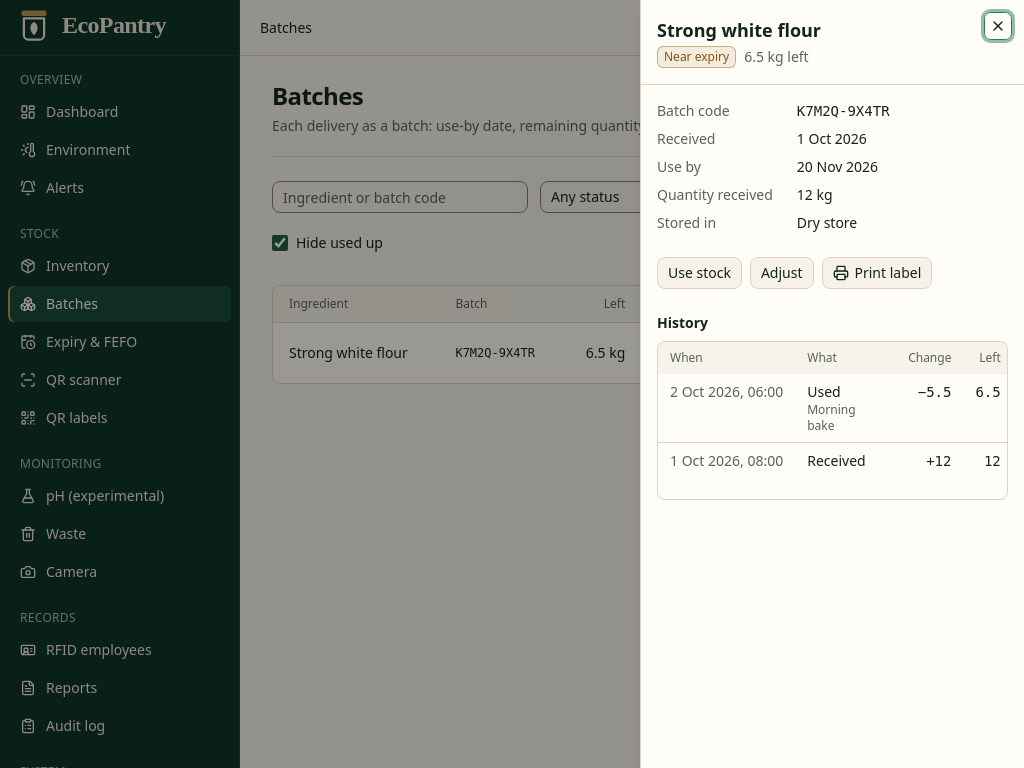
Test: Batches page › shows the server's message when more is taken than remains
Click the button "Use stock" at (699, 273), box [657,257,742,289]
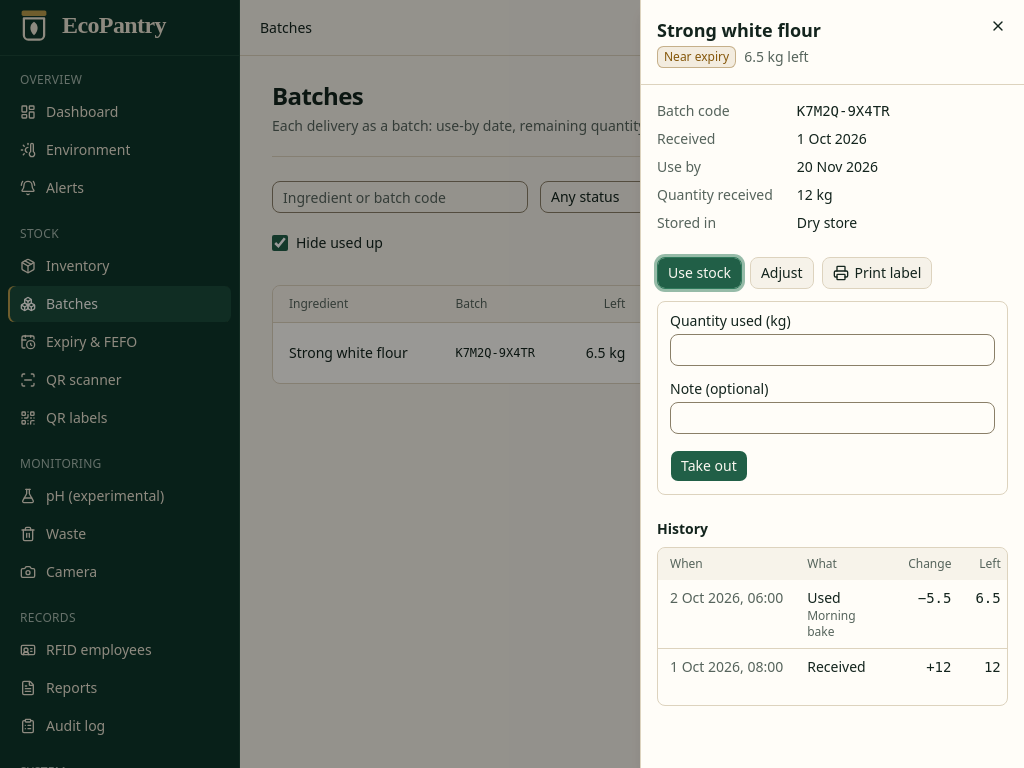
Type "9" into the field labelled "Quantity used (kg)" at (832, 350), box [670,334,995,366]
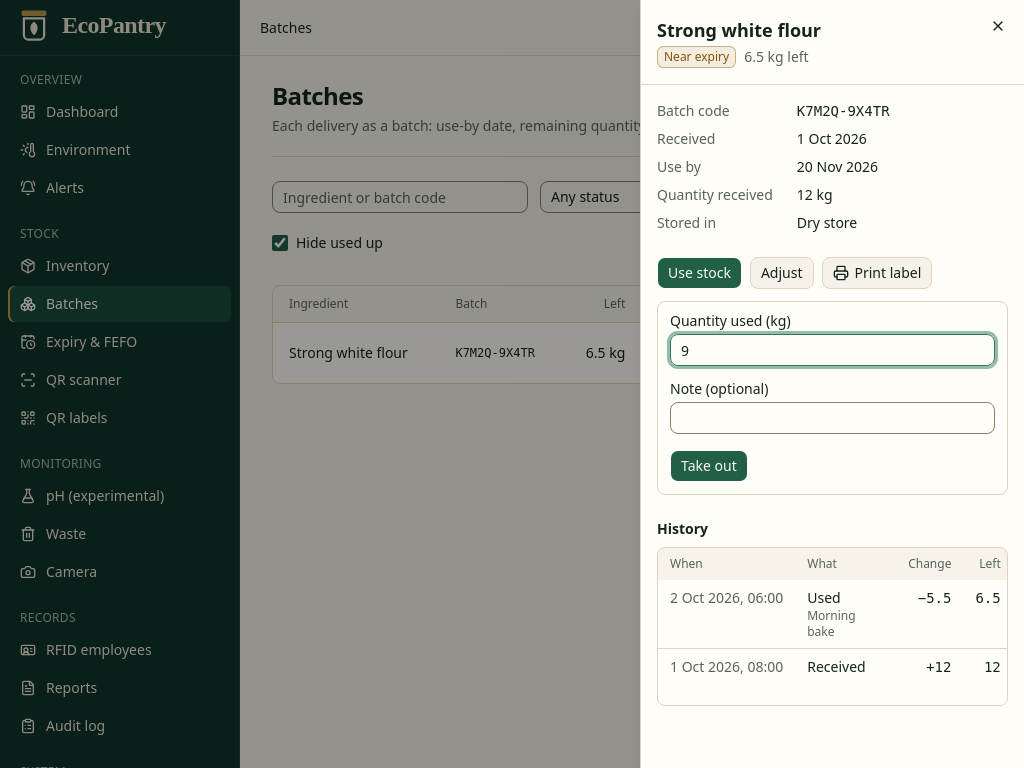
Click the button "Take out" at (709, 466), box [670,450,748,482]
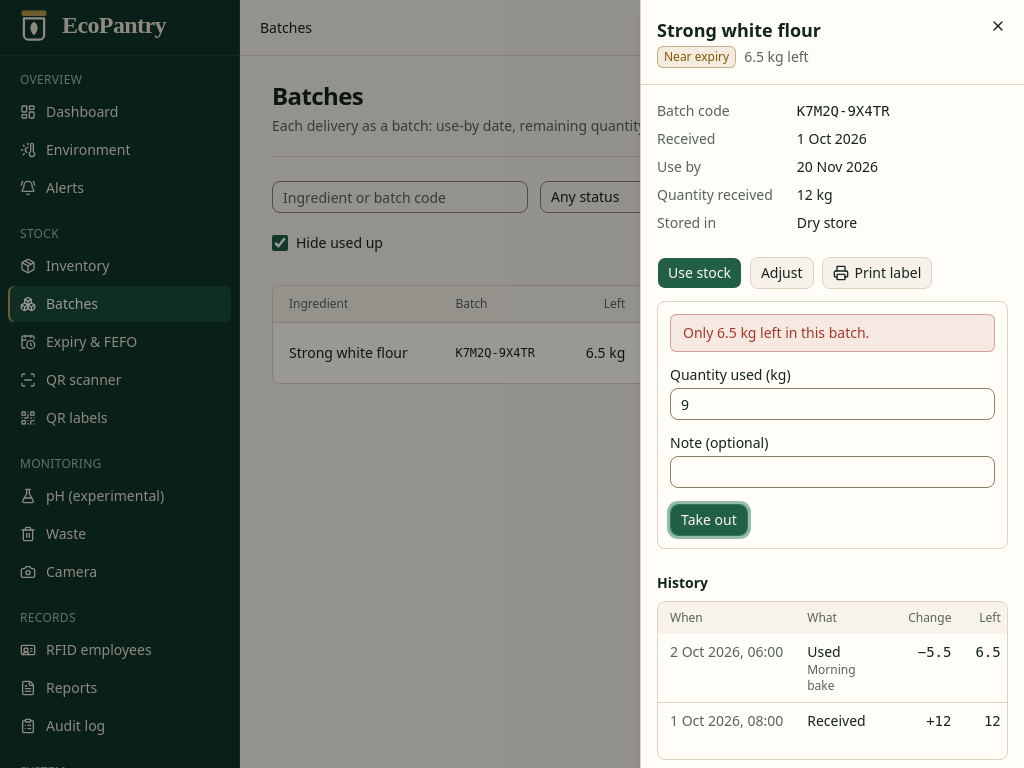
Now the message reads "Only 6.5 kg left in this batch.", box [683,323,869,342]
